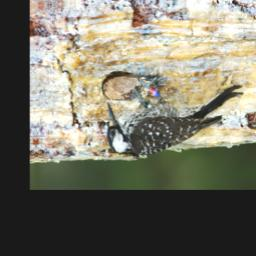Woodpecker: (104, 70, 245, 161)
